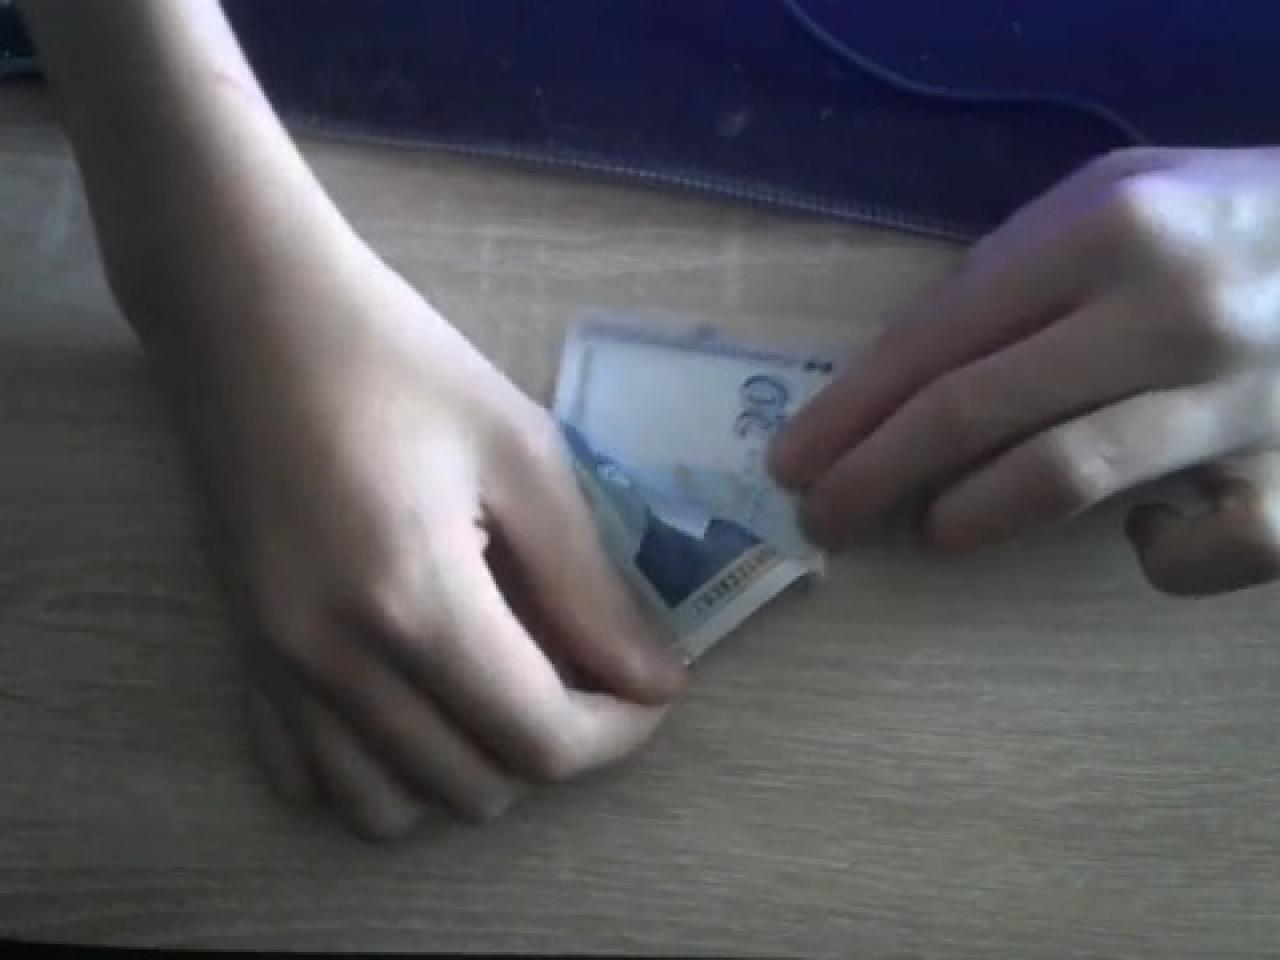20leva: (544, 307, 848, 673)
